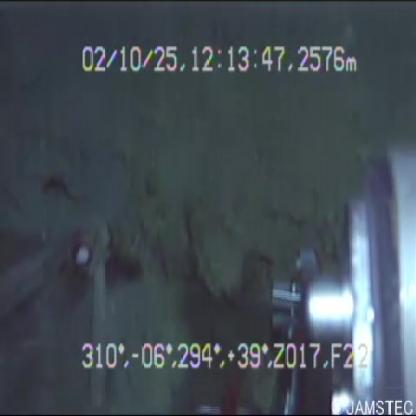Rov: (183, 108, 416, 414)
Rác: (1, 193, 144, 416)
